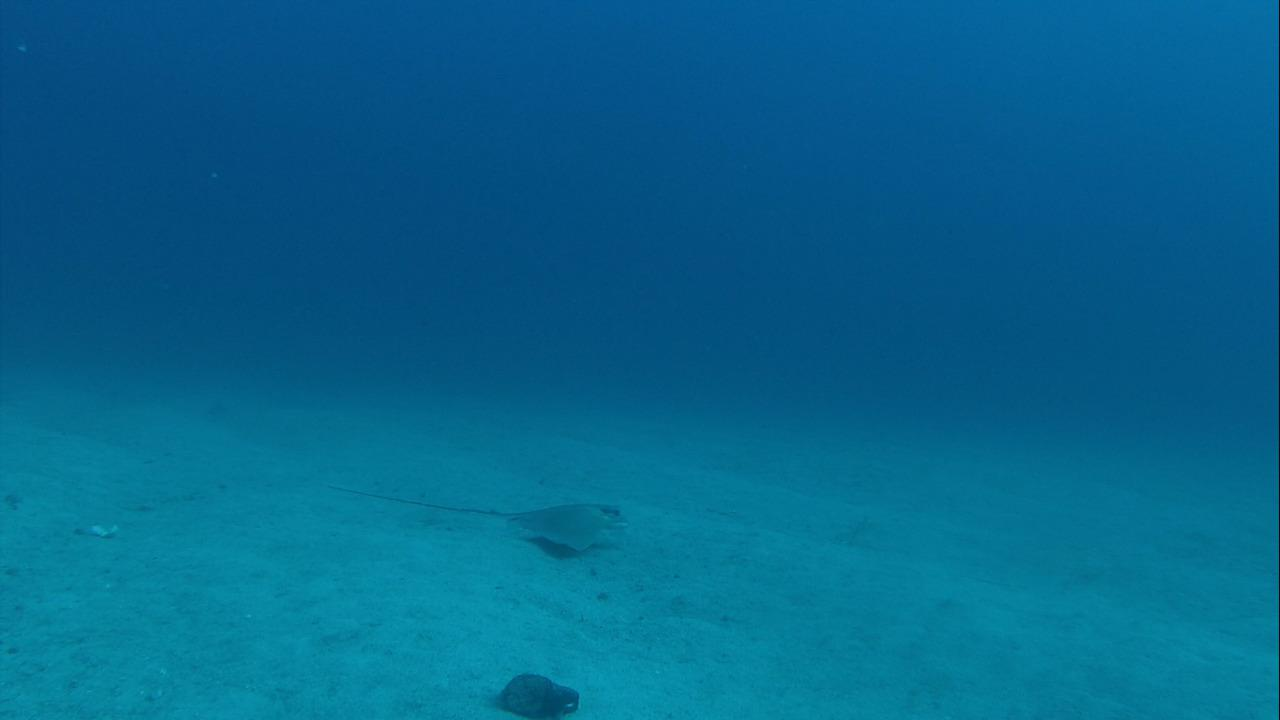myliobatis: (331, 477, 626, 560)
